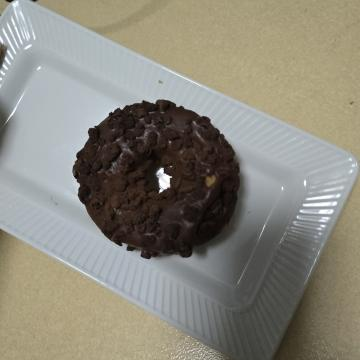doughnut: (76, 104, 272, 298)
